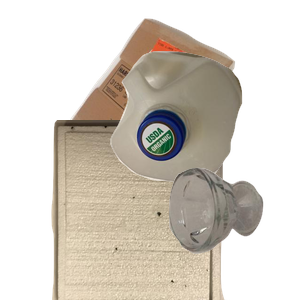cardboard: (67, 16, 295, 196)
glass: (166, 165, 300, 300)
plastic: (108, 49, 300, 226)
trash: (49, 120, 269, 300)
